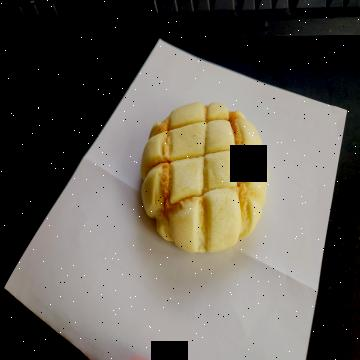melon_bread: (140, 101, 270, 254)
